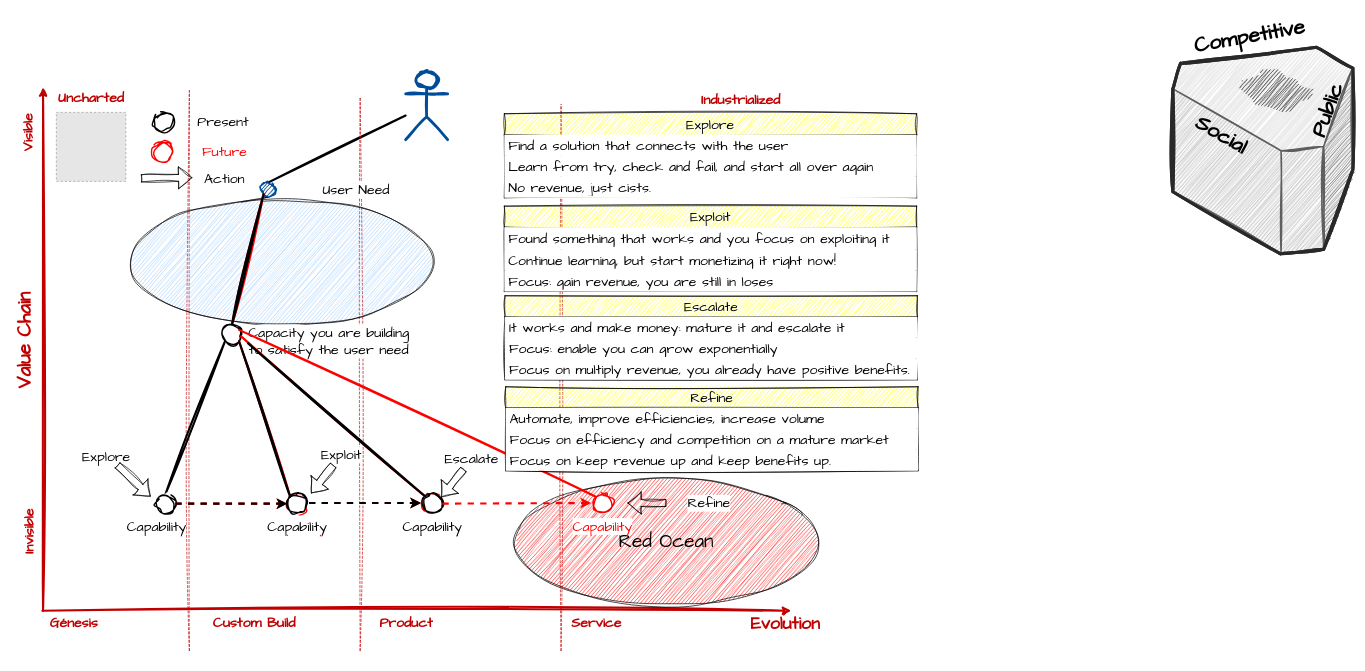
This 1365x671 diagram has some shape labels left out. Grey dashed boxes stand in for pictures. The shapes that lost their labels are listed below. From the top down, each one's centre as x and y in pixels, then its label:
At (426,105): "Potential User".
At (281,261): "Blue Ocean".
